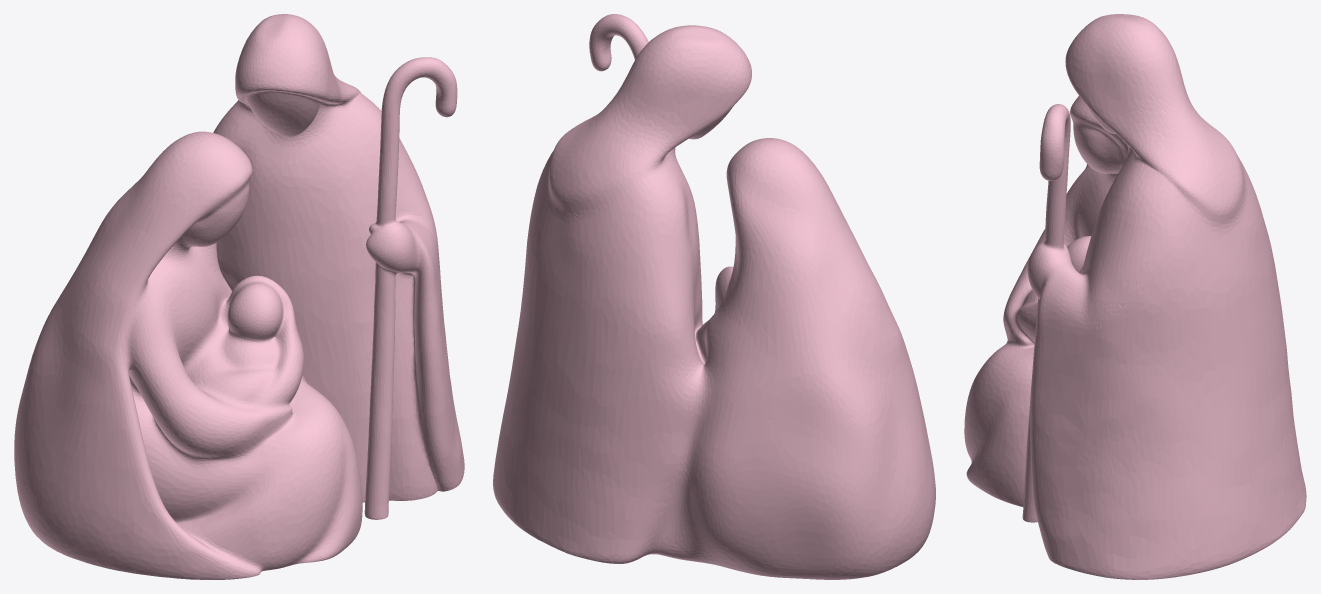
Rendered from pesebre-minimalista.glb.
3 renders of one model, left to right at view 1: azimuth 30°, elevation 25°; view 2: azimuth 150°, elevation 25°; view 3: azimuth 270°, elevation 25°, orthographic.
Parts seen in each view (by area): view 1: pieza; view 2: pieza; view 3: pieza.
Boxes of the visible parts, box(x1,y1,x2,y2) form: pieza: box(14, 14, 464, 579); pieza: box(493, 14, 935, 579); pieza: box(964, 14, 1306, 579).
Bounding box in the file's own units: 0.0999 × 0.1095 × 0.0713.
